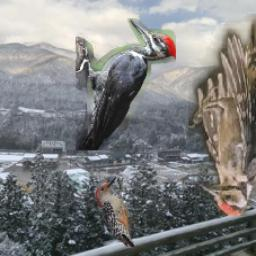Woodpecker: (188, 14, 256, 216), (77, 20, 177, 152), (96, 178, 135, 248)
